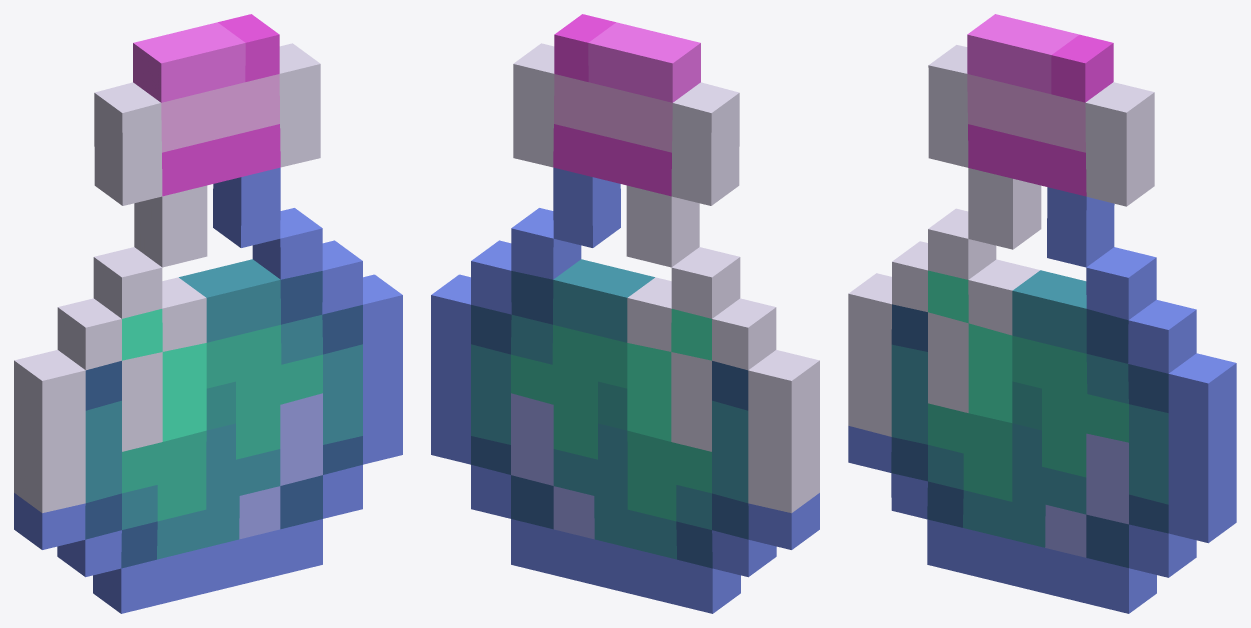
File: Minecraft_Jump_Potion.fbx
3 views of the same model, side by side, from view 1: azimuth 30°, elevation 25°; view 2: azimuth 150°, elevation 25°; view 3: azimuth 330°, elevation 25° (orthographic).
Visible parts, largest first — view 1: Invisibily_Potion; view 2: Invisibily_Potion; view 3: Invisibily_Potion.
Boxes of the visible parts, x1=… form: Invisibily_Potion: x1=14, y1=14, x2=402, y2=613; Invisibily_Potion: x1=431, y1=14, x2=819, y2=613; Invisibily_Potion: x1=848, y1=14, x2=1236, y2=613.
Size of the model in its own units: 268 by 384 by 36.16.
